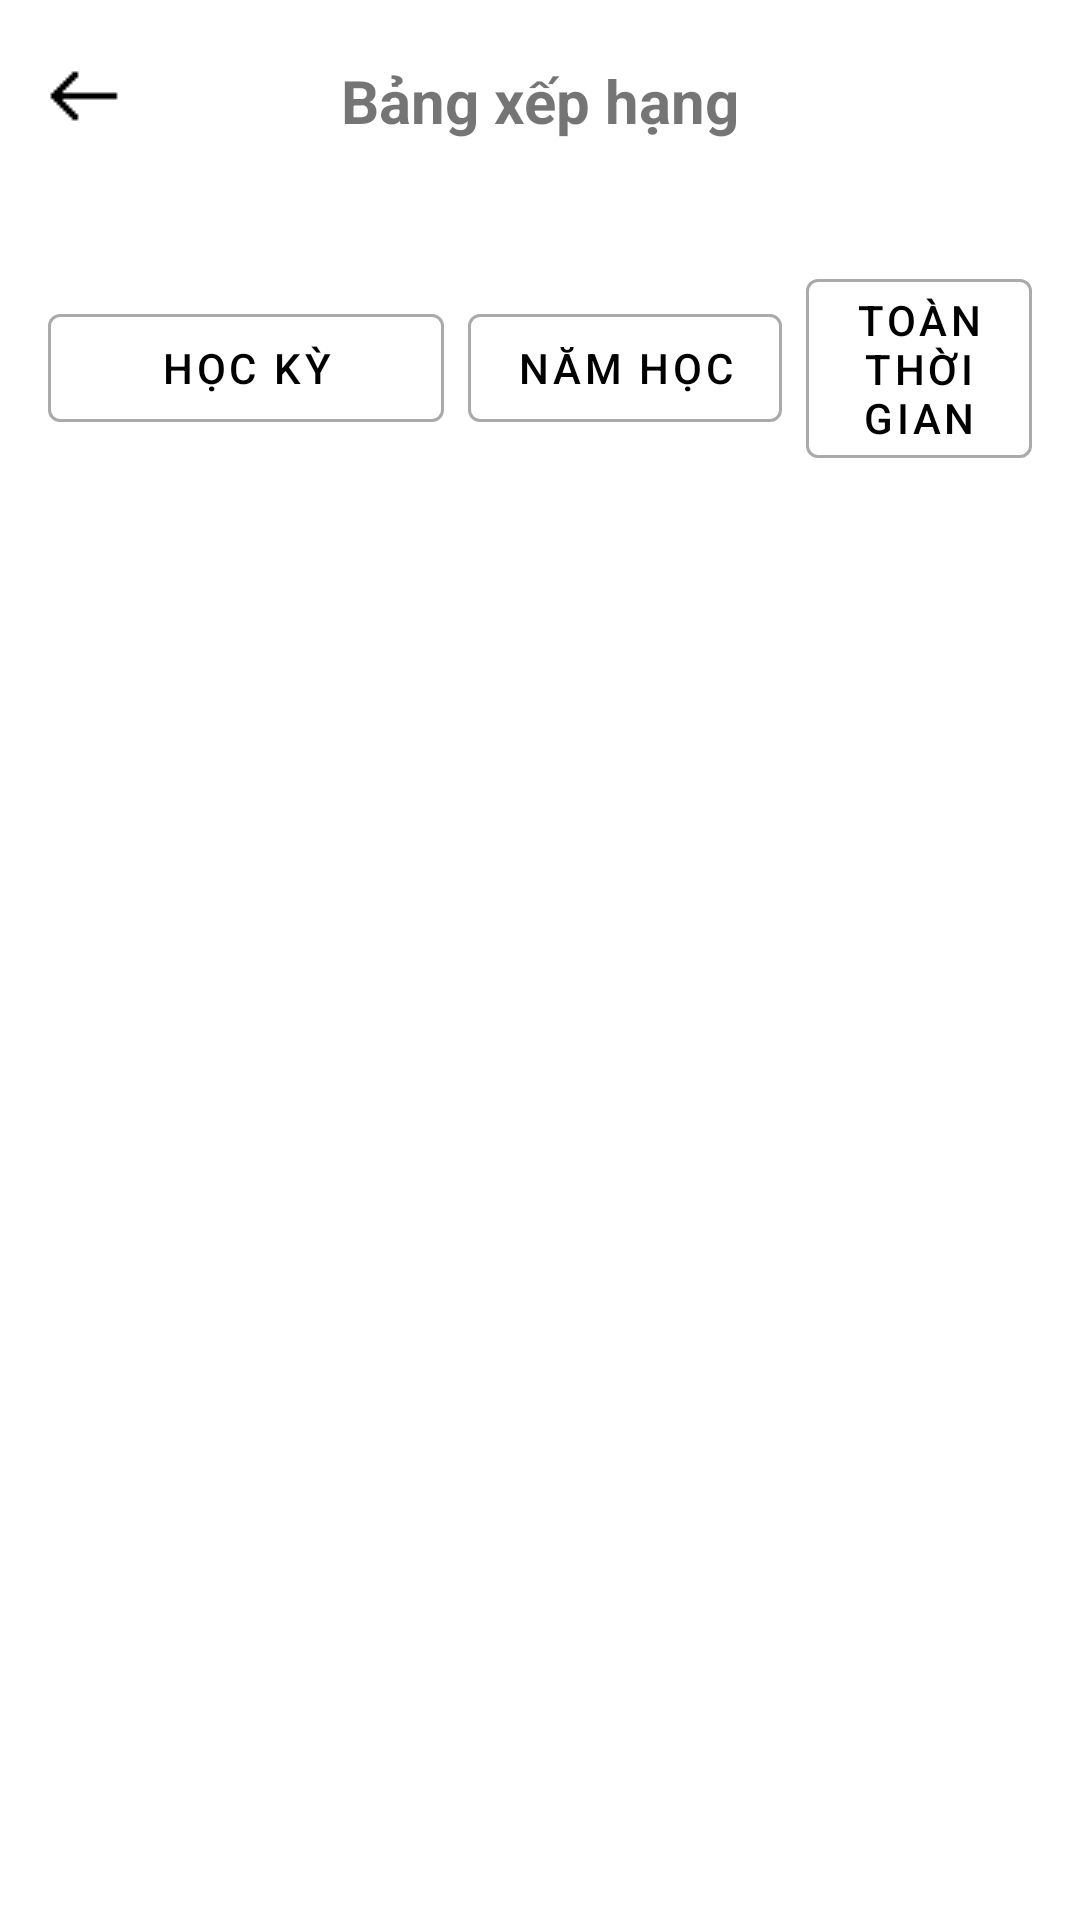

Screen size 1080px×1920px. Icon name, then its box in pixels as (x1, y1, x2, y2):
back: (50, 71, 118, 121)
